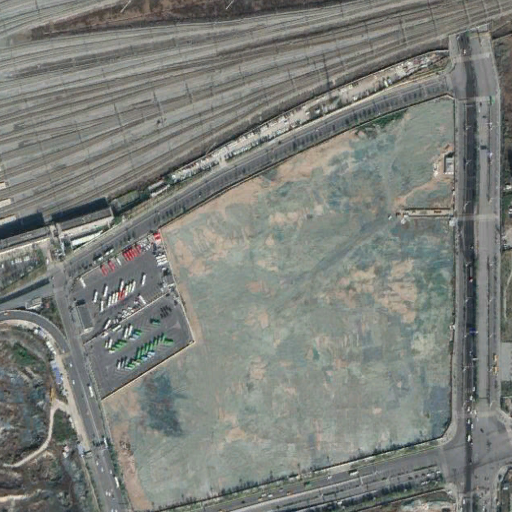cw: (99, 97, 456, 510)
